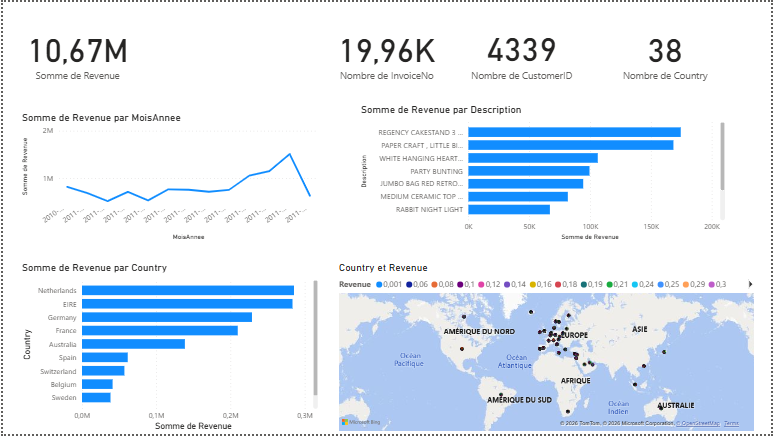

Layout of this report page (visuals, bound fields, positions):
{"tool":"powerbi","page":{"name":"Page 1","canvas":[1280,720],"ordinal":0},"visuals":[{"type":"card","fields":{"Values":["Sum(public transactions.Revenue)"]},"box":[0,0,248.3,168.3],"z":0},{"type":"card","fields":{"Values":["Count(public transactions.InvoiceNo)"]},"box":[530,0,218.6,168.6],"z":1000},{"type":"card","fields":{"Values":["Count(public transactions.CustomerID)"]},"box":[750,0,228.6,167.1],"z":2000},{"type":"card","fields":{"Values":["Count(public transactions.Country)"]},"box":[998.6,0,210,168.6],"z":3000},{"type":"lineChart","fields":{"Y":["Sum(public transactions.Revenue)"],"Category":["public transactions.MoisAnnee"]},"box":[26.7,181.7,503.3,220],"z":4000},{"type":"clusteredBarChart","fields":{"Category":["public transactions.Description"],"Y":["Sum(public transactions.Revenue)"]},"box":[591.7,168.3,616.7,233.3],"z":5000},{"type":"clusteredBarChart","fields":{"Category":["public transactions.Country"],"Y":["Sum(public transactions.Revenue)"]},"box":[26.9,431.7,240.2,288.9],"z":6000},{"type":"map","fields":{"Category":["public transactions.Country"],"Series":["public transactions.Revenue"]},"box":[389.7,431.7,866.8,288.9],"z":7000}]}

Visuals, with their boxes in screenshot pixels (x1, y1, x2, y2), scaled from the page's 1280x720 canvas onto the 774x437 screenshot:
card - Sum(public transactions.Revenue): {"x1": 0, "y1": 0, "x2": 150, "y2": 102}
card - Count(public transactions.InvoiceNo): {"x1": 320, "y1": 0, "x2": 453, "y2": 102}
card - Count(public transactions.CustomerID): {"x1": 454, "y1": 0, "x2": 592, "y2": 101}
card - Count(public transactions.Country): {"x1": 604, "y1": 0, "x2": 731, "y2": 102}
lineChart - Sum(public transactions.Revenue) x public transactions.MoisAnnee: {"x1": 16, "y1": 110, "x2": 320, "y2": 244}
clusteredBarChart - public transactions.Description x Sum(public transactions.Revenue): {"x1": 358, "y1": 102, "x2": 731, "y2": 244}
clusteredBarChart - public transactions.Country x Sum(public transactions.Revenue): {"x1": 16, "y1": 262, "x2": 162, "y2": 436}
map - public transactions.Country x public transactions.Revenue: {"x1": 236, "y1": 262, "x2": 760, "y2": 436}
